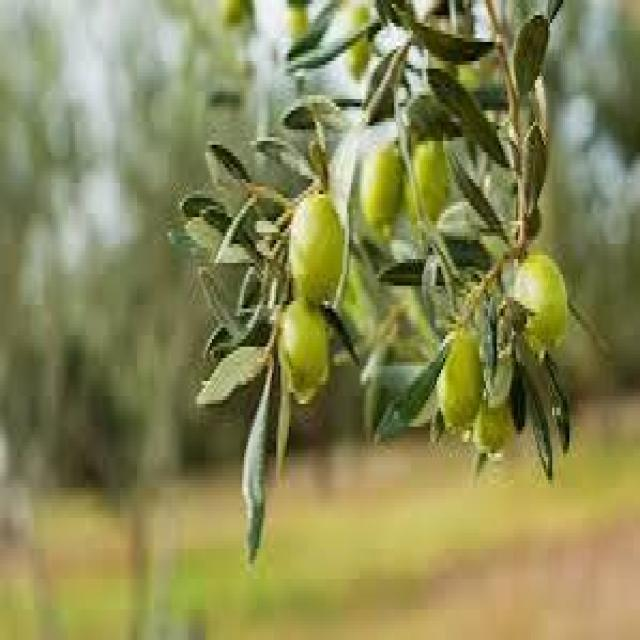Healthy: (289, 194, 345, 305), (278, 297, 332, 404)
